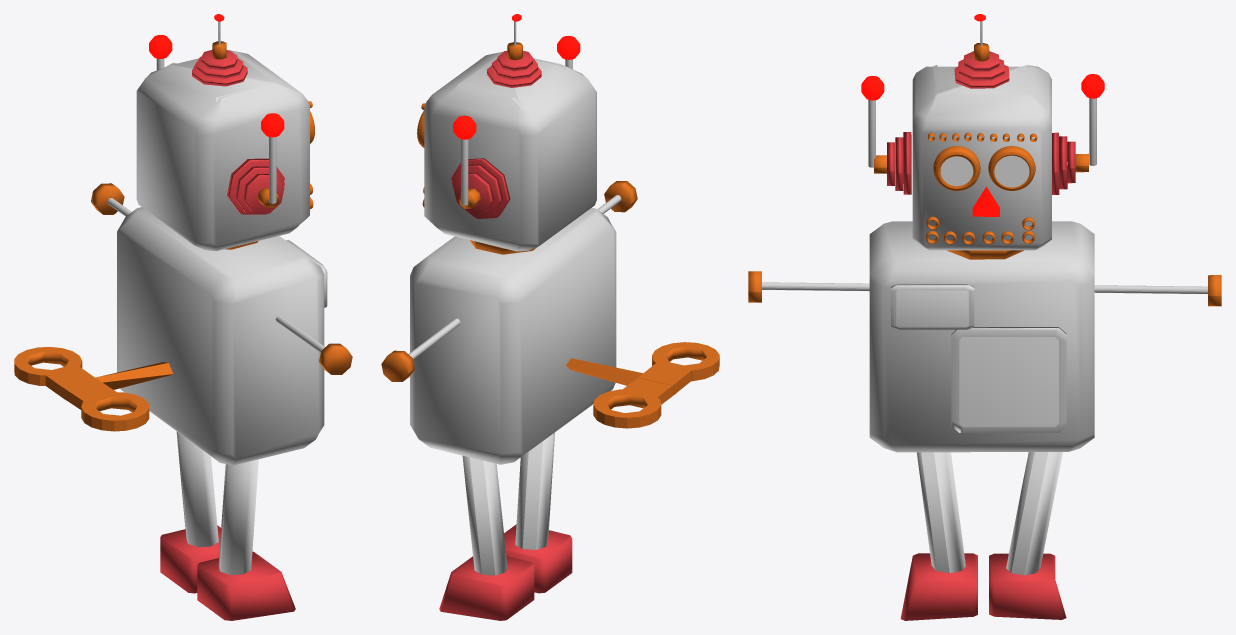
File: Robot.glb
The picture shows the model from 3 angles, left to right: view 1: azimuth 30°, elevation 25°; view 2: azimuth 150°, elevation 25°; view 3: azimuth 270°, elevation 25°; orthographic projection. The views are drawn at different scales.
Parts seen in each view (by area): view 1: Cube.002, Cube.003, Cube, Cube.005, Cube.004, Cube.001, Cylinder.006, Cylinder.007, Cube.029, Cube.026, Cube.013, Cube.019 (+10 smaller); view 2: Cube.002, Cube.003, Cube.001, Cube.004, Cube.005, Cube, Cylinder.007, Cylinder.006, Cube.029, Cube.026, Cube.010, Cube.020 (+10 smaller); view 3: Cube.002, Cube.003, Cube.022, Cube.004, Cube.005, Cube, Cube.001, Cube.021, Torus, Cylinder.002, Cube.023, Cylinder.003 (+2 smaller).
Boxes of the visible parts, x1=… form: Cube.002: x1=117, y1=207, x2=324, y2=465; Cube.003: x1=136, y1=50, x2=309, y2=250; Cube: x1=197, y1=551, x2=295, y2=620; Cube.005: x1=218, y1=459, x2=258, y2=574; Cube.004: x1=176, y1=431, x2=218, y2=547; Cube.001: x1=160, y1=525, x2=221, y2=593; Cylinder.006: x1=81, y1=392, x2=149, y2=431; Cylinder.007: x1=14, y1=347, x2=82, y2=385; Cube.029: x1=95, y1=362, x2=173, y2=389; Cube.026: x1=62, y1=378, x2=118, y2=409; Cube.013: x1=242, y1=173, x2=284, y2=213; Cube.019: x1=319, y1=343, x2=352, y2=374; Cube.002: x1=410, y1=207, x2=616, y2=464; Cube.003: x1=424, y1=51, x2=596, y2=251; Cube.001: x1=439, y1=556, x2=534, y2=620; Cube.004: x1=462, y1=455, x2=507, y2=575; Cube.005: x1=515, y1=432, x2=554, y2=549; Cube: x1=504, y1=524, x2=572, y2=593; Cylinder.007: x1=593, y1=389, x2=661, y2=428; Cylinder.006: x1=652, y1=342, x2=719, y2=381; Cube.029: x1=566, y1=358, x2=642, y2=385; Cube.026: x1=638, y1=361, x2=692, y2=395; Cube.010: x1=453, y1=172, x2=494, y2=214; Cube.020: x1=381, y1=350, x2=414, y2=381; Cube.002: x1=869, y1=221, x2=1094, y2=452; Cube.003: x1=912, y1=65, x2=1051, y2=250; Cube.022: x1=951, y1=327, x2=1066, y2=432; Cube.004: x1=1006, y1=452, x2=1062, y2=575; Cube.005: x1=916, y1=452, x2=965, y2=573; Cube: x1=900, y1=553, x2=977, y2=620; Cube.001: x1=989, y1=553, x2=1066, y2=619; Cube.021: x1=891, y1=284, x2=974, y2=329; Torus: x1=933, y1=146, x2=980, y2=190; Cylinder.002: x1=1094, y1=285, x2=1207, y2=294; Cube.023: x1=994, y1=155, x2=1032, y2=187; Cylinder.003: x1=762, y1=282, x2=869, y2=291.
Size of the model in its own units: 3.87 by 8.51 by 6.22.
